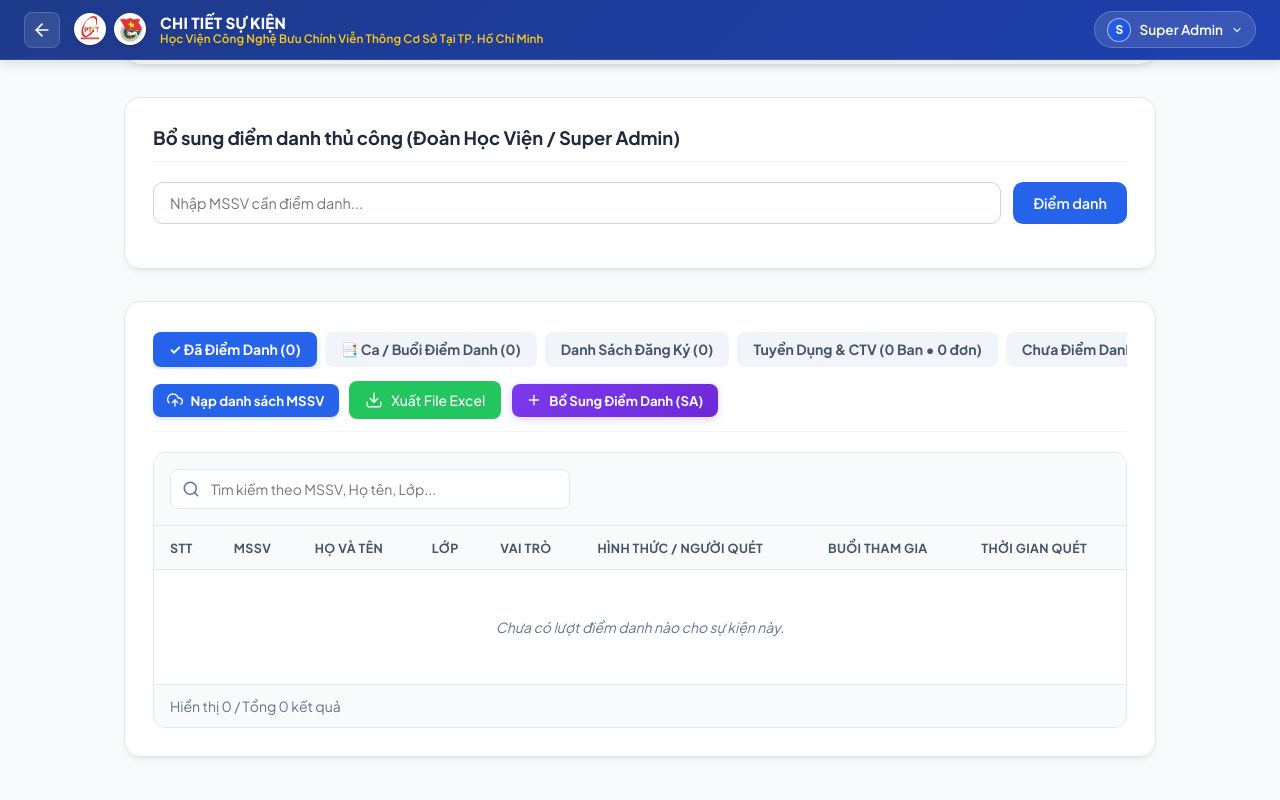
EventDetailPage render test › opens bulk import modal when import button is clicked
(page scrolled)
Expected: the text "Nạp danh sách MSSV" is shown, [191,392,324,409]
Click the button "Nạp danh sách MSSV" at point(246, 400), box [153,384,339,417]
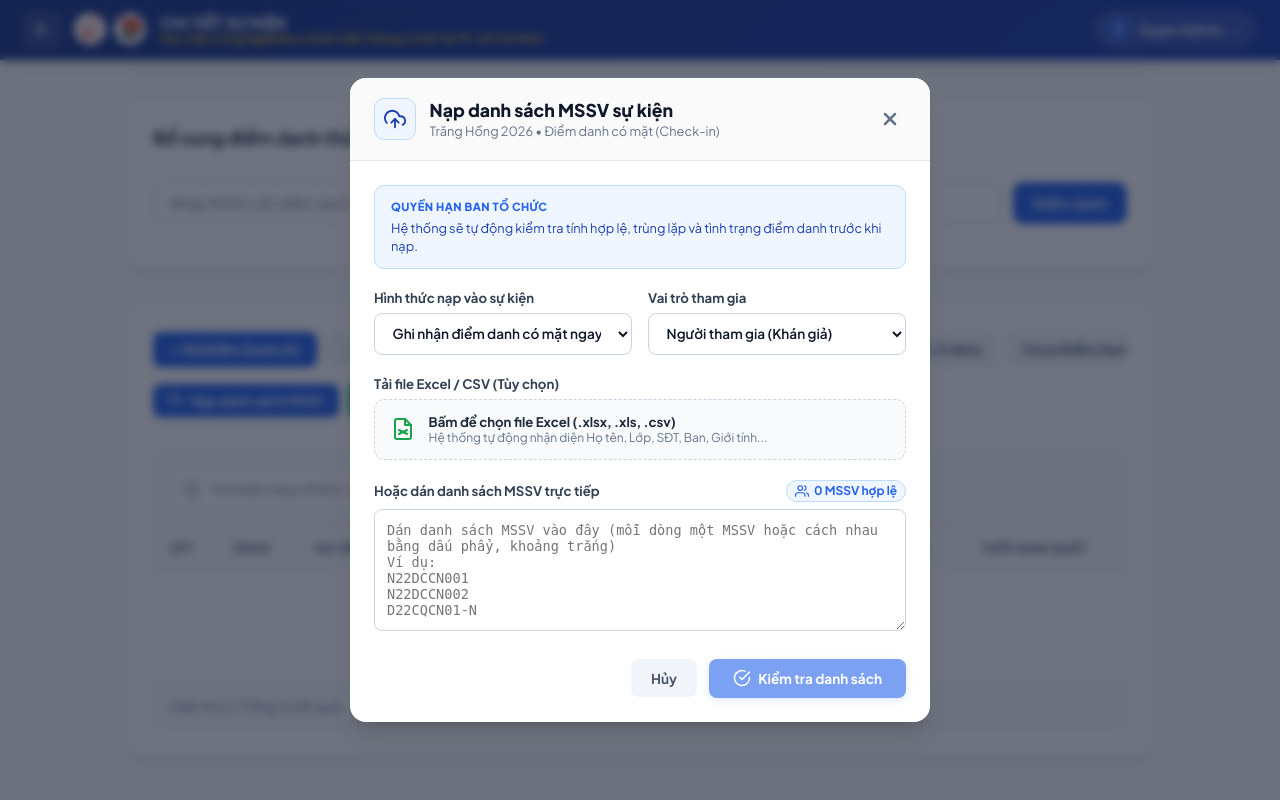
Result: the heading "Nạp danh sách MSSV sự kiện" is shown at [430,99,673,121]
